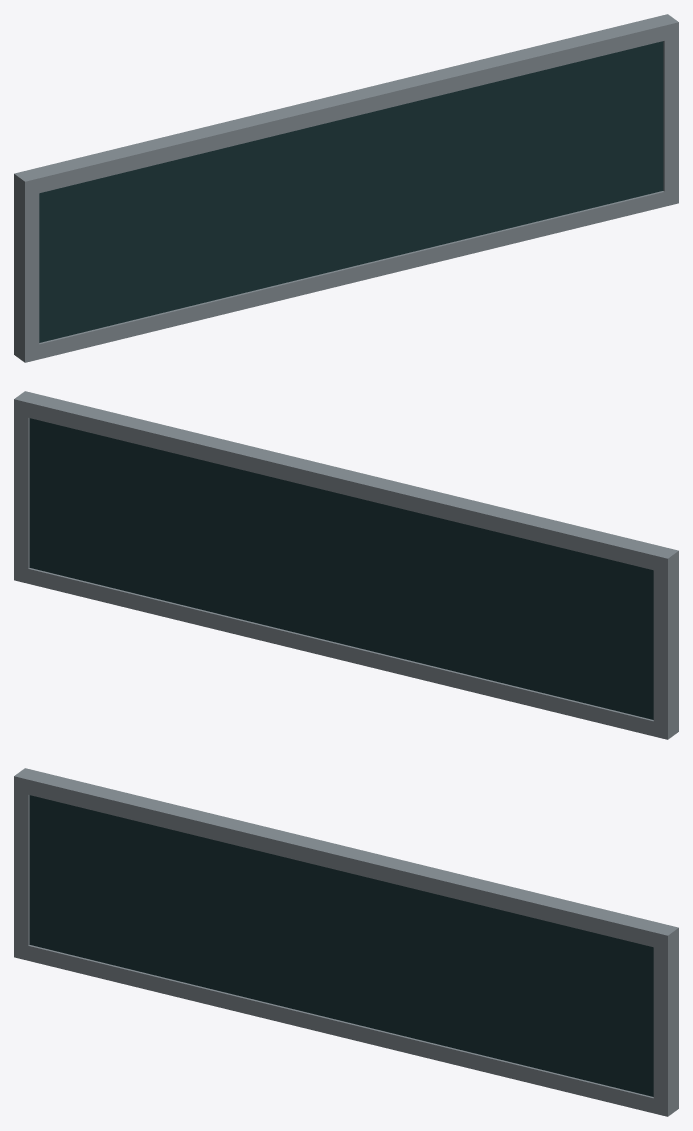
The model's file is tank_name_plate.fbx.
3 views of the same model, one above another, from view 1: azimuth 30°, elevation 25°; view 2: azimuth 150°, elevation 25°; view 3: azimuth 330°, elevation 25° (orthographic).
Visible parts, largest first — view 1: tank_name_plate; view 2: tank_name_plate; view 3: tank_name_plate.
Part boxes in pixels (x1,y1,x2,y2): tank_name_plate: (14,14,678,362); tank_name_plate: (14,391,678,739); tank_name_plate: (14,768,678,1116).
Size of the model in its own units: 3.4 by 0.9 by 0.1.
